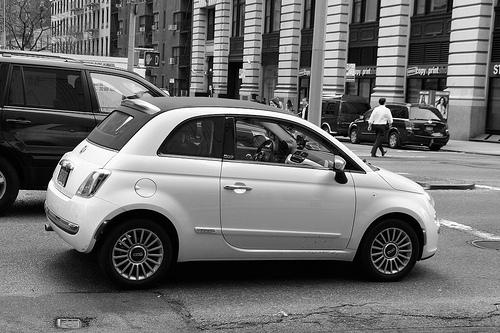car: (42, 96, 443, 291)
